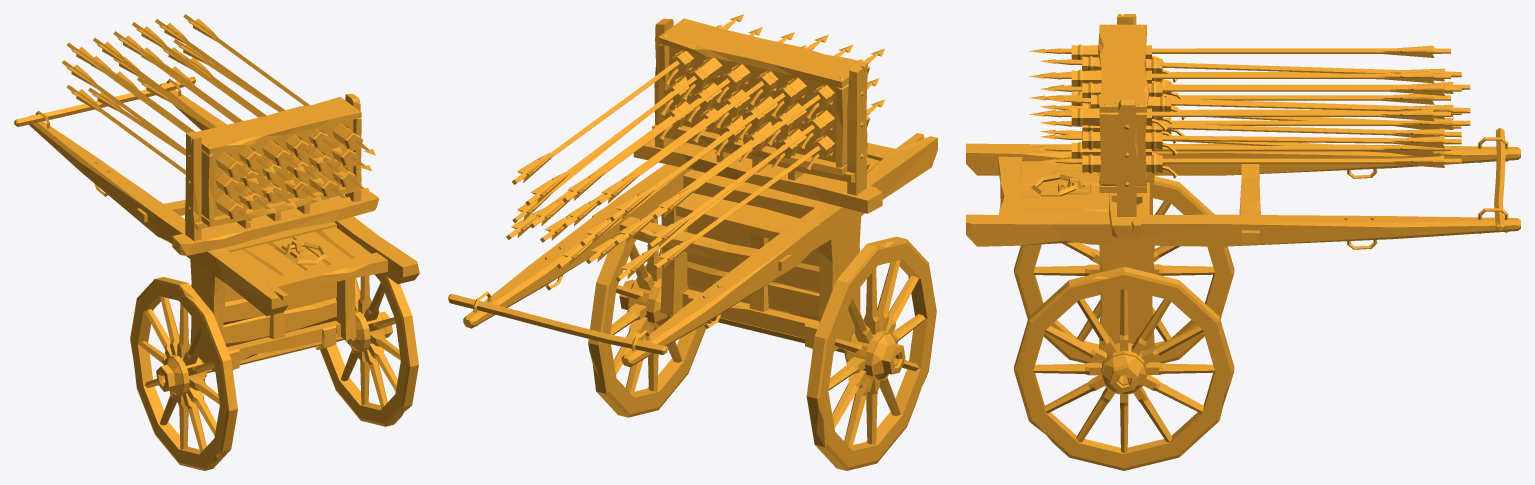
File: SM_Hwacha.fbx
The picture shows the model from 3 angles, left to right: view 1: azimuth 30°, elevation 25°; view 2: azimuth 150°, elevation 25°; view 3: azimuth 270°, elevation 25°; orthographic projection. The views are drawn at different scales.
Visible parts, largest first — view 1: hwacha-base, hwacha-wheels, hwacha-arrows; view 2: hwacha-base, hwacha-wheels, hwacha-arrows; view 3: hwacha-base, hwacha-arrows, hwacha-wheels.
Boxes of the visible parts, x1,y1,x2,y2 form: hwacha-base: (14,76,419,372); hwacha-wheels: (130,273,418,470); hwacha-arrows: (62,14,375,225); hwacha-base: (448,18,937,366); hwacha-wheels: (588,218,936,470); hwacha-arrows: (506,14,884,281); hwacha-base: (966,14,1520,351); hwacha-arrows: (1028,44,1470,178); hwacha-wheels: (1014,176,1234,470).
Bounding box in the file's own units: 1.2 × 1.65 × 2.3.
